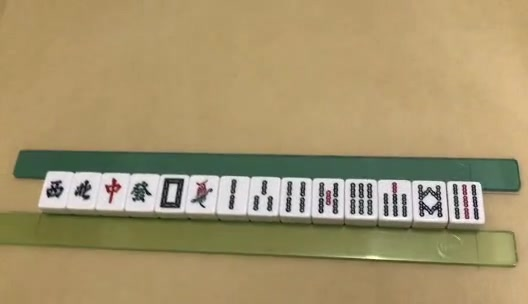1s: (193, 180, 211, 207)
2s: (228, 178, 239, 210)
3s: (253, 179, 273, 212)
3z: (46, 179, 64, 198)
4s: (285, 182, 307, 213)
4z: (74, 179, 93, 199)
5s: (317, 181, 339, 213)
5z: (158, 178, 182, 207)
6s: (349, 182, 375, 215)
6z: (131, 181, 152, 201)
7s: (383, 183, 409, 217)
7z: (105, 178, 121, 202)
8s: (416, 184, 443, 217)
9s: (452, 184, 480, 221)
